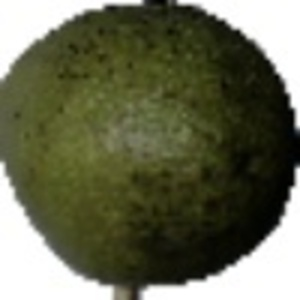abacate: (1, 3, 297, 288)
